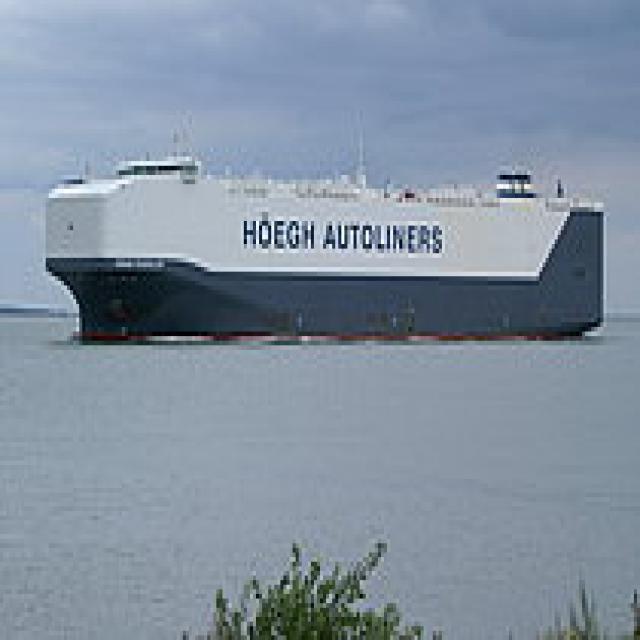Carrier: (36, 152, 606, 336)
